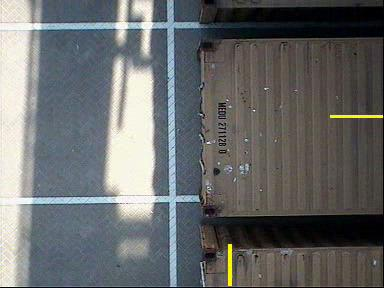groundmarker_2: (83, 131, 178, 195)
